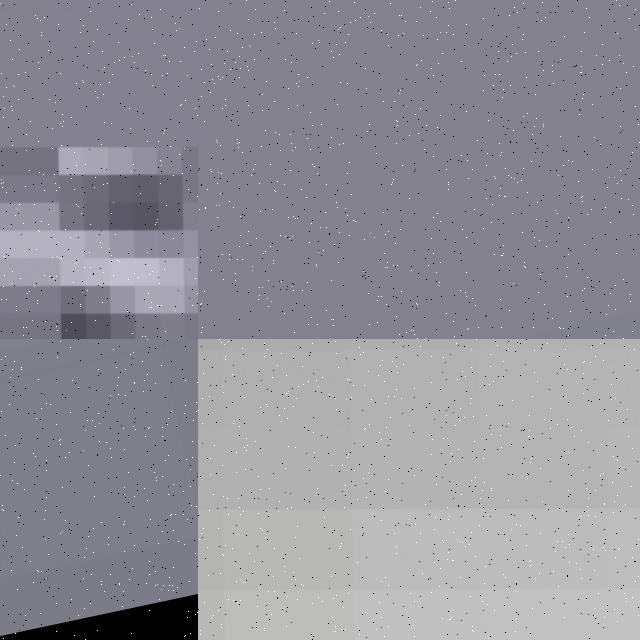drone: (198, 339, 640, 640), (0, 0, 198, 339)
